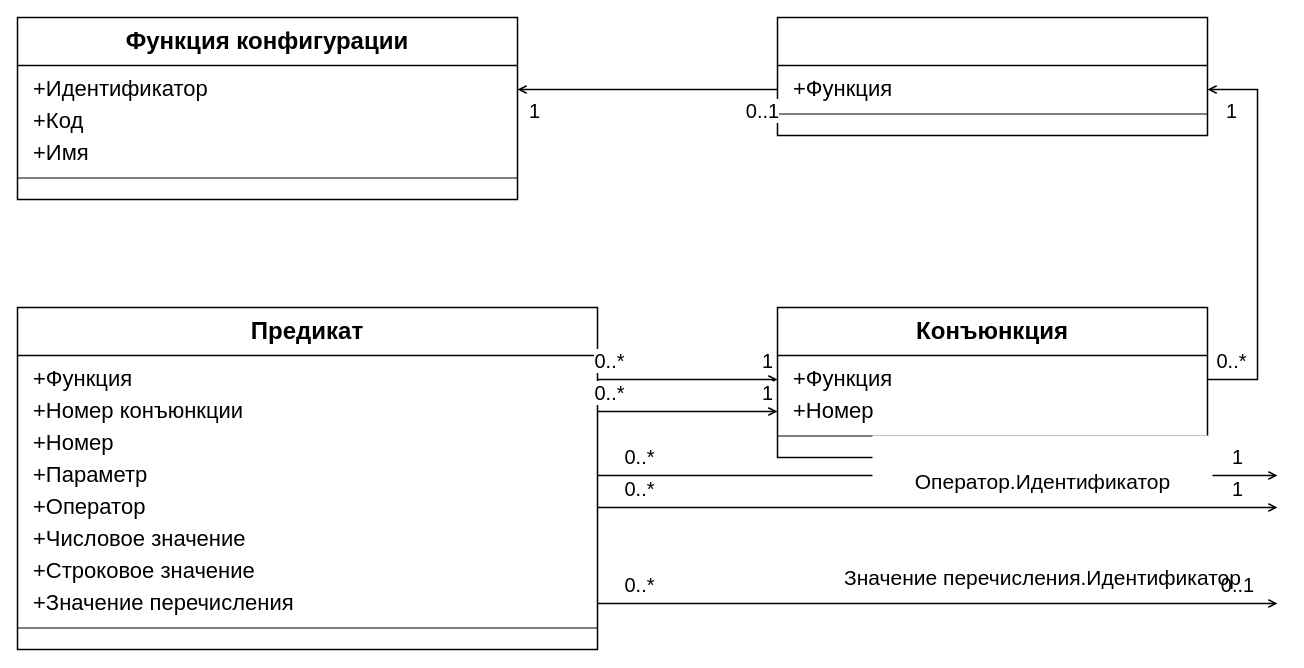
The diagram is 1304 pixels wide and 668 high, and some of its shapes have lost their labels. The box of each missing label's shape, as (x1, y1, x2, y2) in pixels:
Параметр.Идентификатор: (872, 435, 1212, 463)
Тело функции конфигурации: (776, 16, 1208, 136)
